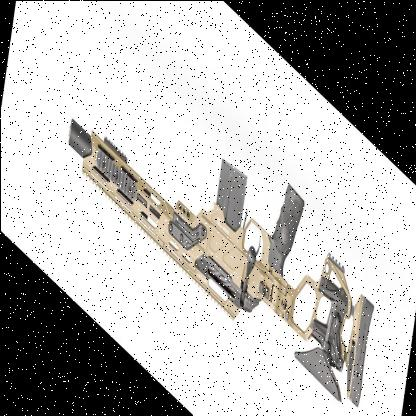rifle: (61, 0, 382, 416)
